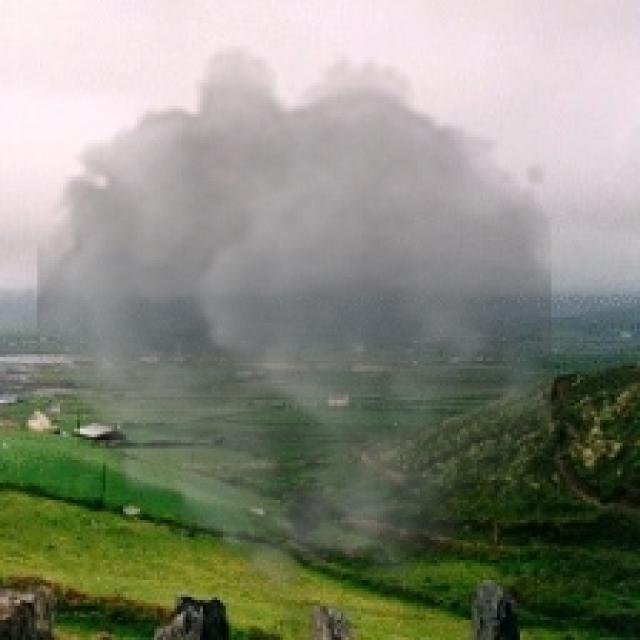smoke: (37, 46, 552, 611)
